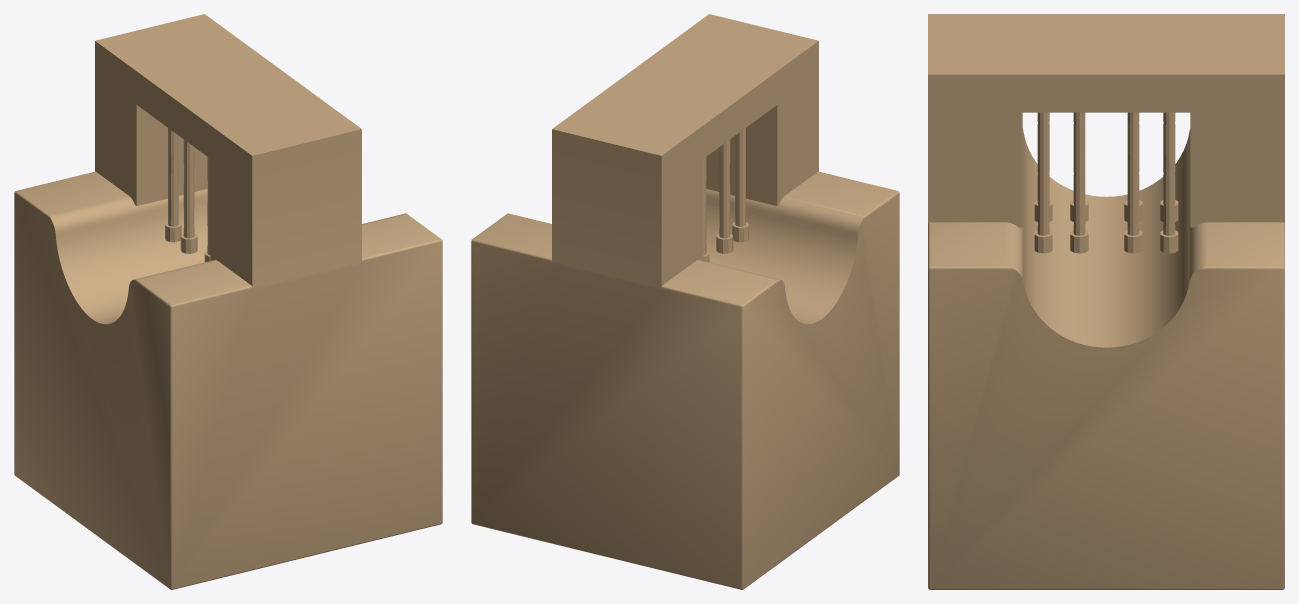
Rendered from mech_arch_rope_l3.glb.
The picture shows the model from 3 angles, left to right: view 1: azimuth 30°, elevation 25°; view 2: azimuth 150°, elevation 25°; view 3: azimuth 270°, elevation 25°; orthographic projection. The views are drawn at different scales.
Visible parts, largest first — view 1: mech_arch_rope_l3_lod0, anim_rope_1_lod0, anim_rope_0_lod0; view 2: mech_arch_rope_l3_lod0, anim_rope_2_lod0, anim_rope_3_lod0; view 3: mech_arch_rope_l3_lod0, anim_rope_4_lod0, anim_rope_7_lod0, anim_rope_5_lod0, anim_rope_6_lod0.
Part boxes in pixels (left/top/right/bottom): mech_arch_rope_l3_lod0: left=14, top=14, right=442, bottom=589; anim_rope_1_lod0: left=180, top=139, right=197, bottom=253; anim_rope_0_lod0: left=165, top=128, right=181, bottom=242; mech_arch_rope_l3_lod0: left=471, top=14, right=899, bottom=589; anim_rope_2_lod0: left=716, top=139, right=733, bottom=253; anim_rope_3_lod0: left=732, top=128, right=748, bottom=242; mech_arch_rope_l3_lod0: left=928, top=14, right=1284, bottom=589; anim_rope_4_lod0: left=1160, top=112, right=1178, bottom=253; anim_rope_7_lod0: left=1034, top=112, right=1052, bottom=253; anim_rope_5_lod0: left=1124, top=112, right=1142, bottom=253; anim_rope_6_lod0: left=1070, top=112, right=1088, bottom=253.
Size of what is drawn, in the model's own units: 0.0596 by 0.0868 by 0.0596.
